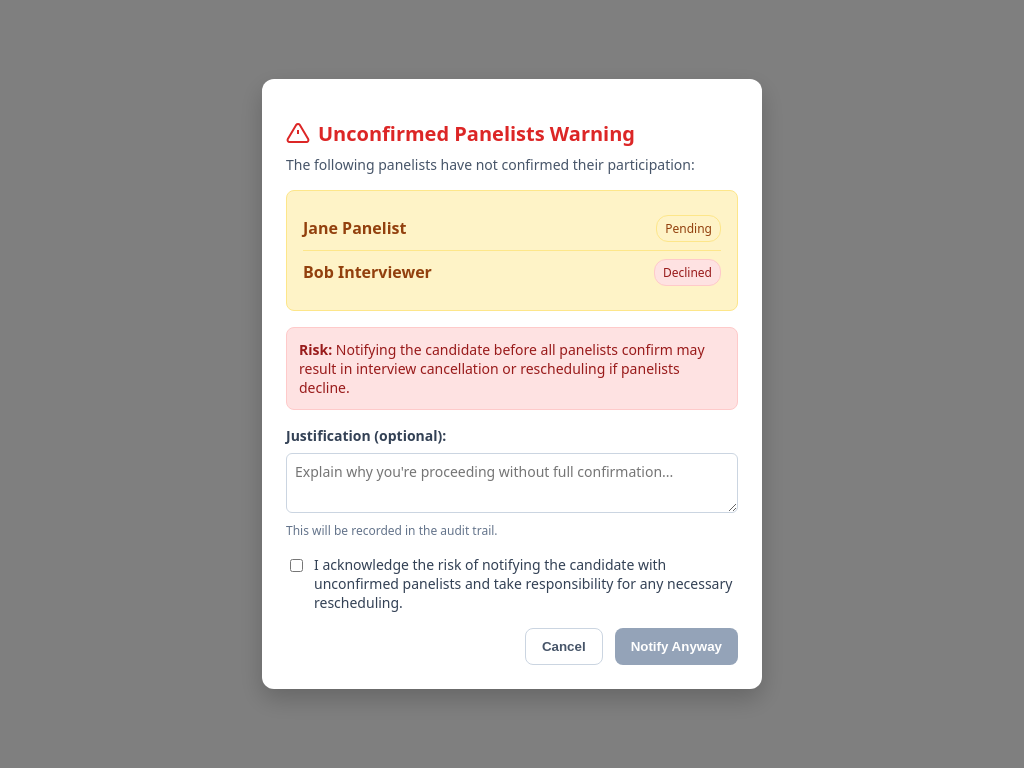
Test: UnconfirmedPanelistWarningModal › disables notify button until checkbox is checked
Expected: the button "Notify Anyway" is disabled, [615,628,738,665]
Click the checkbox.
click(296, 565)  # box [290,559,303,572]
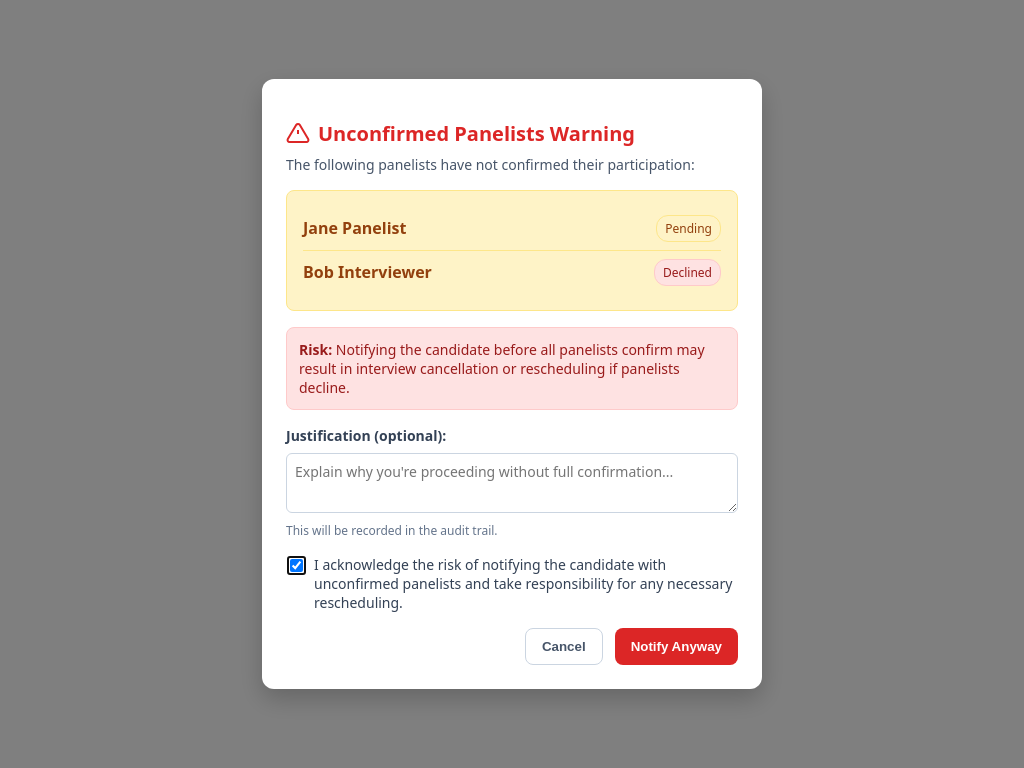
Result: the button "Notify Anyway" is enabled at [615,628,738,665]
